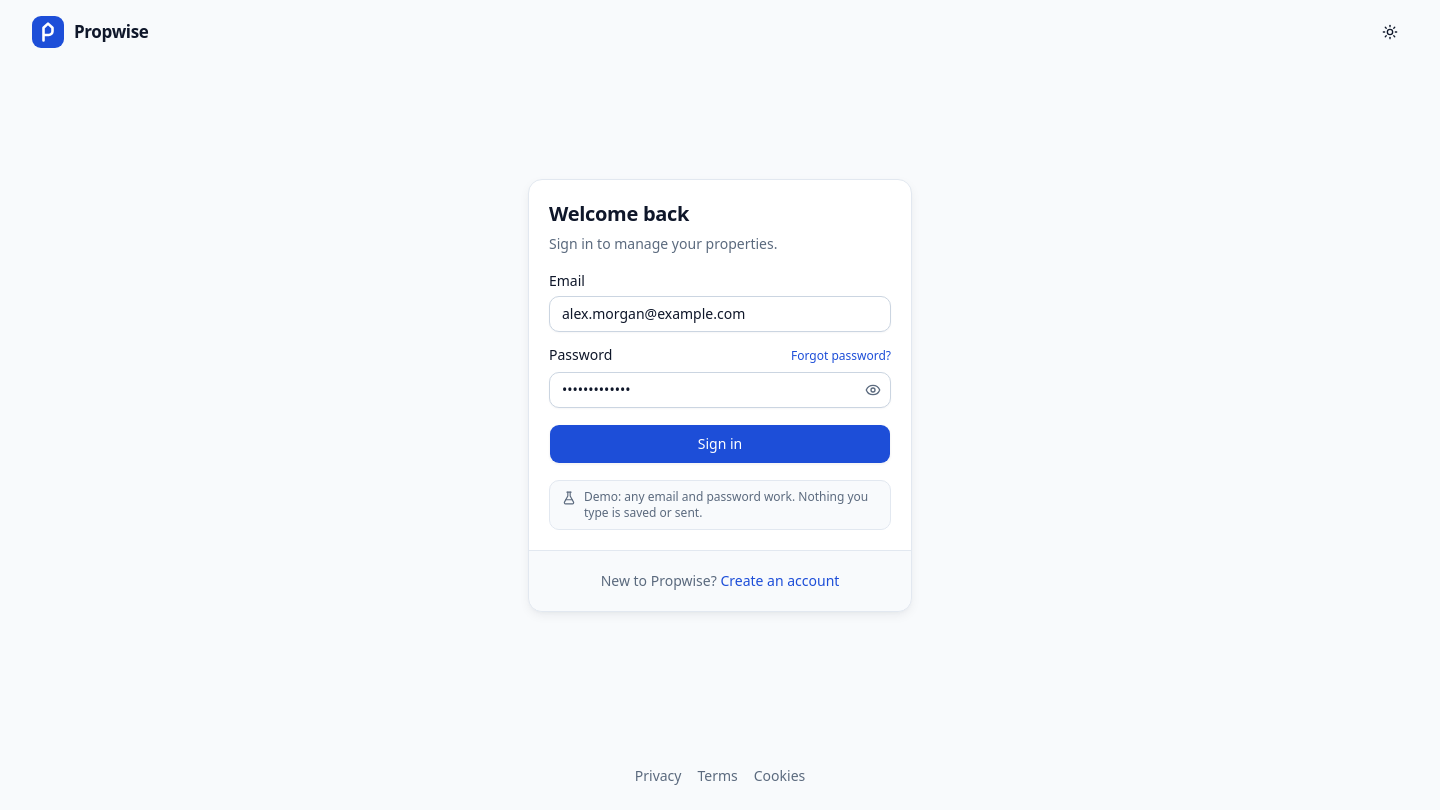
Test case: auth pages › the password field can be shown and hidden
This screenshot has width=1440, height=810.
Click the button named "Show password" at (873, 390), box 855,372 -> 891,408
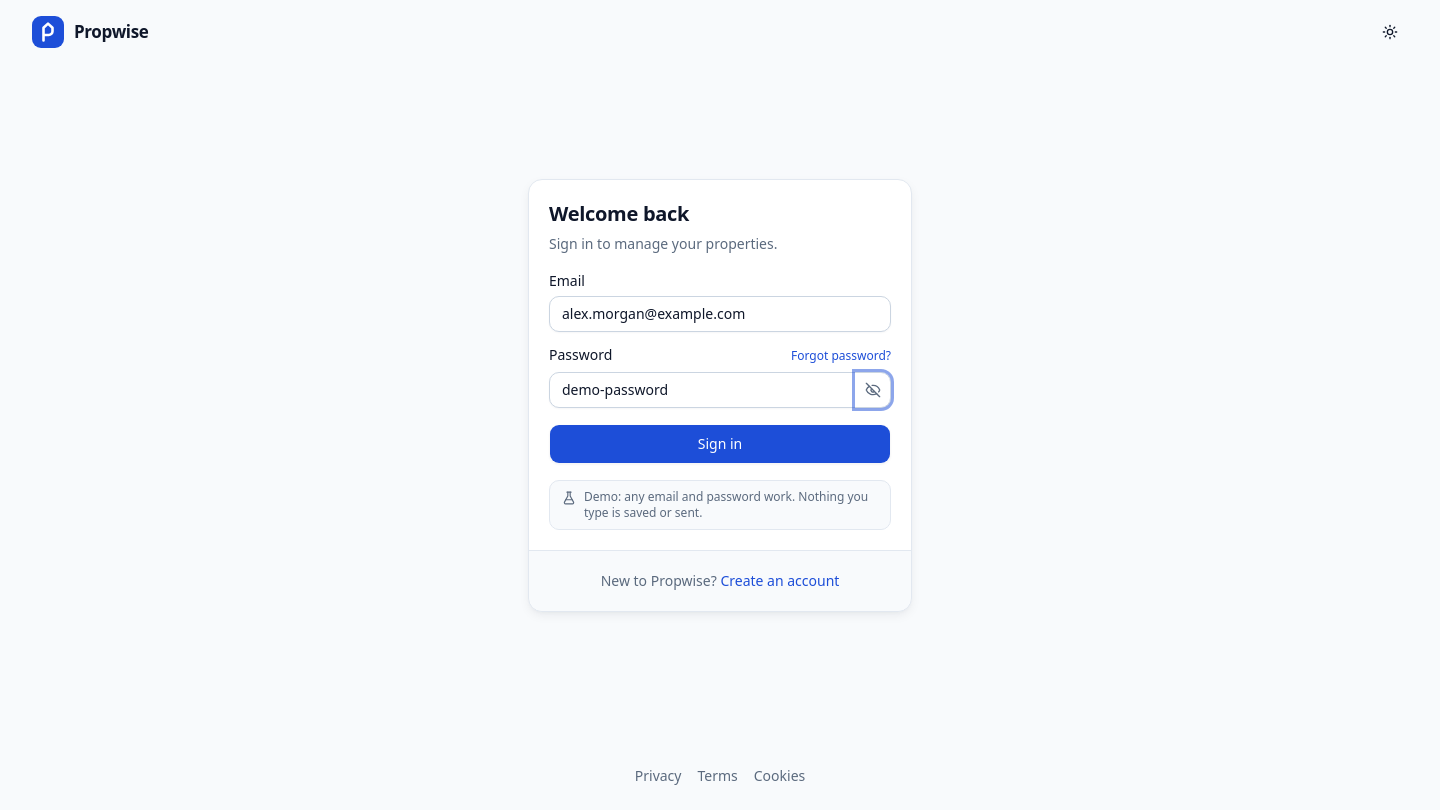
Check: the field labelled "Password" shows its text, box 549,372 -> 891,408
